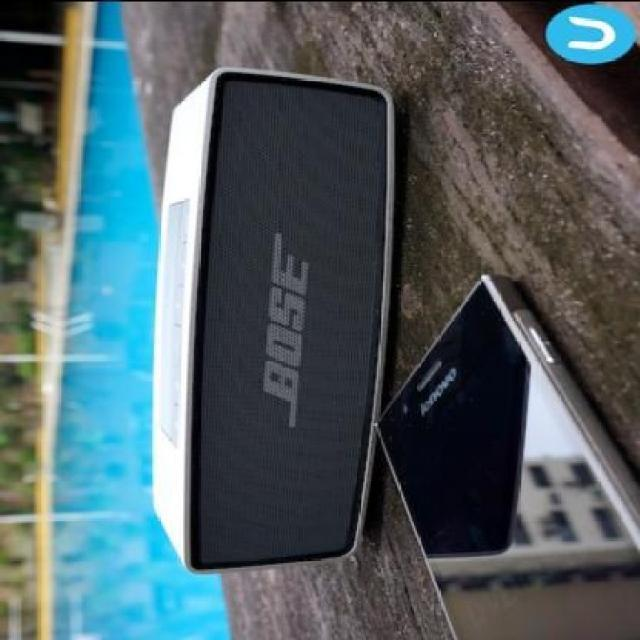phone: (380, 259, 626, 582)
